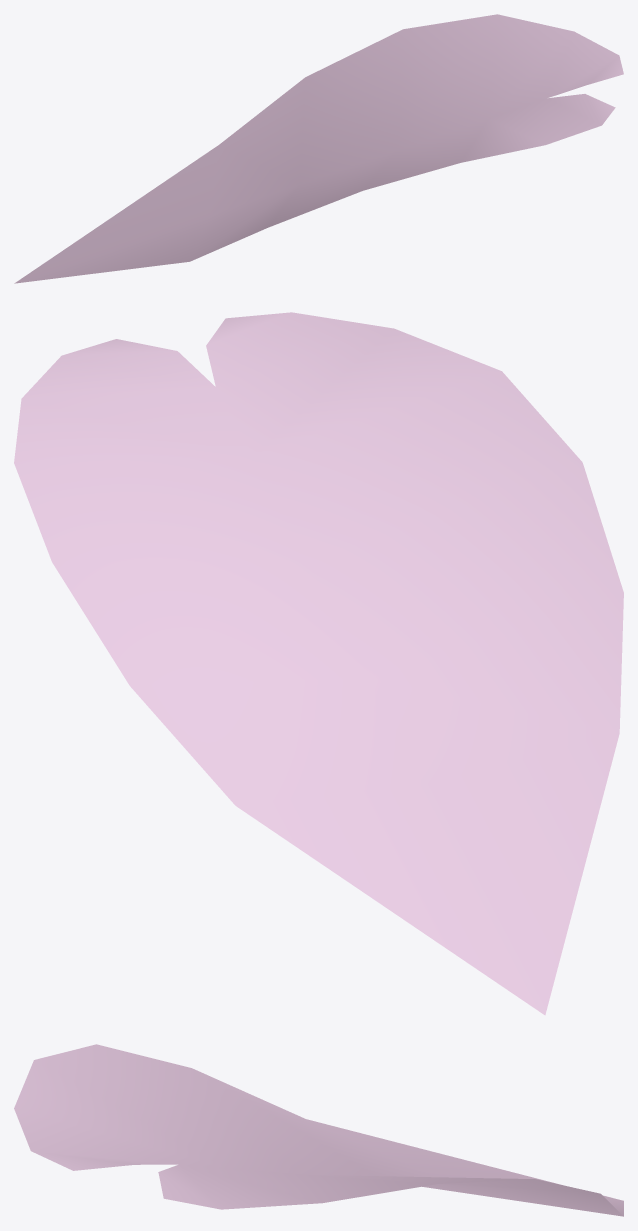
Rendered from cherry_blossom_petal.glb.
3 renders of one model, top to bottom at view 1: azimuth 30°, elevation 25°; view 2: azimuth 150°, elevation 25°; view 3: azimuth 270°, elevation 25°, orthographic. The views are drawn at different scales.
Parts seen in each view (by area): view 1: SakuraHanaBira_0; view 2: SakuraHanaBira_0; view 3: SakuraHanaBira_0.
Part boxes in pixels (bbox=[...]): SakuraHanaBira_0: bbox=[14, 14, 623, 283]; SakuraHanaBira_0: bbox=[14, 312, 623, 1015]; SakuraHanaBira_0: bbox=[14, 1044, 623, 1216].
Size of the model in its own units: 0.5813 by 0.2636 by 0.4699.
